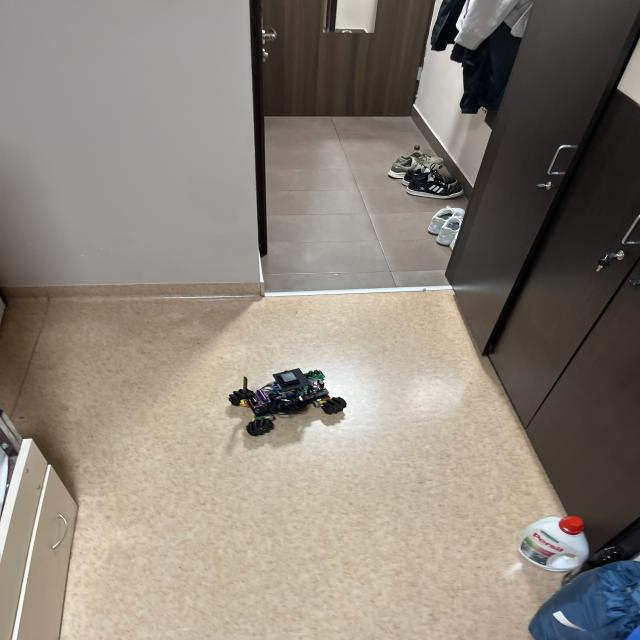robot: (229, 368, 346, 436)
